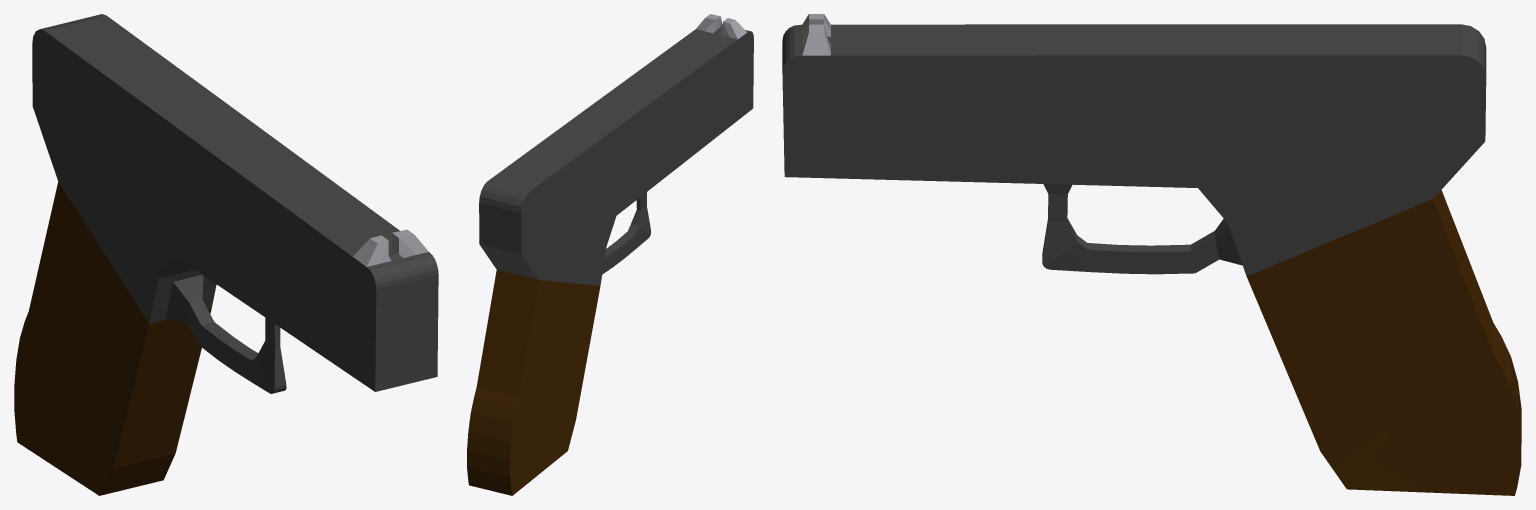
Rendered from glock.fbx.
The picture shows the model from 3 angles, left to right: view 1: azimuth 30°, elevation 25°; view 2: azimuth 150°, elevation 25°; view 3: azimuth 270°, elevation 25°; orthographic projection. The views are drawn at different scales.
Visible parts, largest first — view 1: Cube.001; view 2: Cube.001; view 3: Cube.001.
Part boxes in pixels (<box>): Cube.001: <box>14,14,438,495</box>; Cube.001: <box>467,14,753,495</box>; Cube.001: <box>782,14,1521,495</box>.
Bounding box in the file's own units: 32.29 × 215 × 315.
